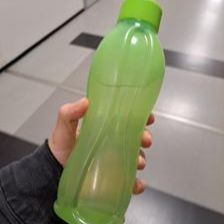bottle: (51, 0, 168, 224)
